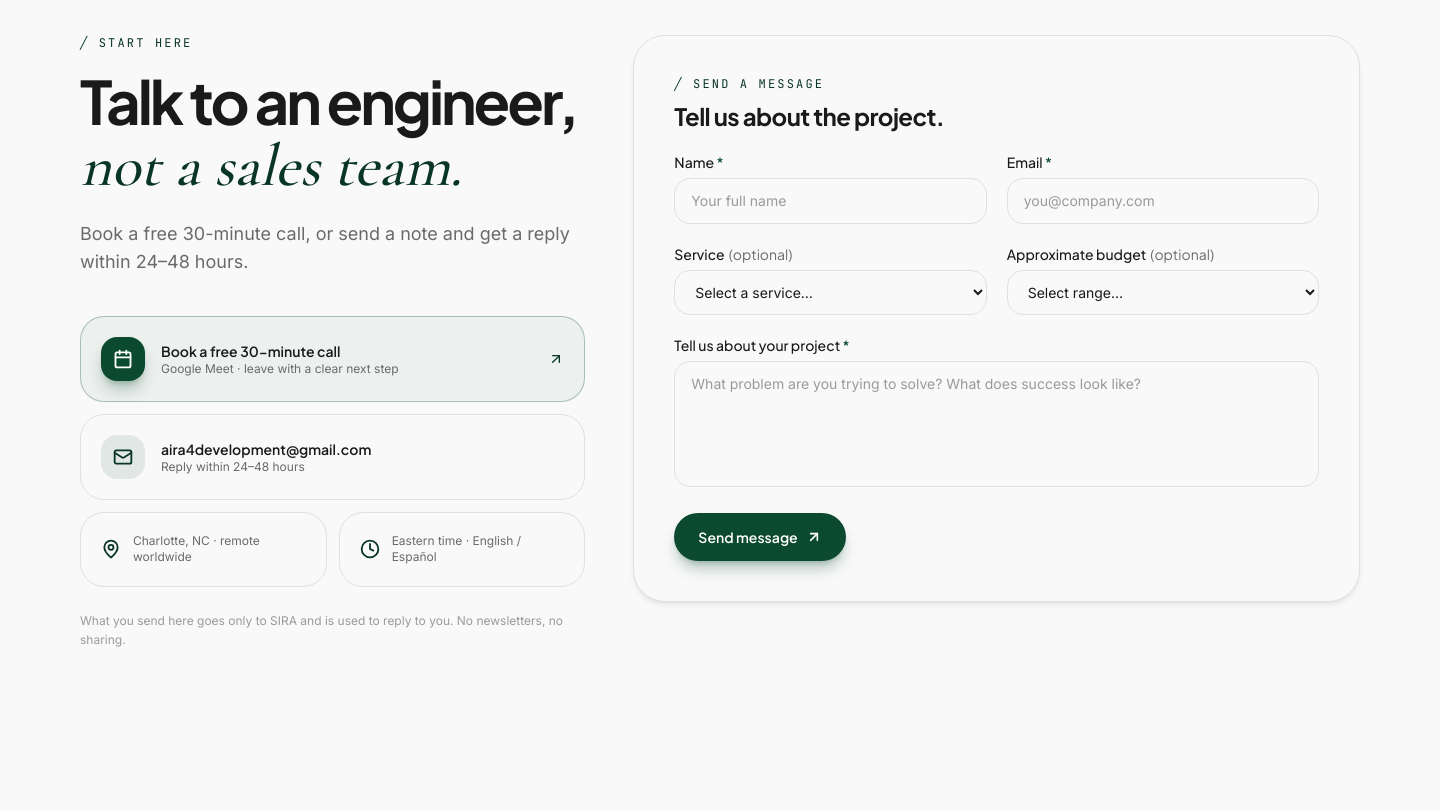
Test: ConversionSection › LEAD-02: shows inline error messages when required fields are empty on submit
The image size is (1440, 810).
(page scrolled)
Click the button "Send message" at point(760, 537), box [674,513,846,561]
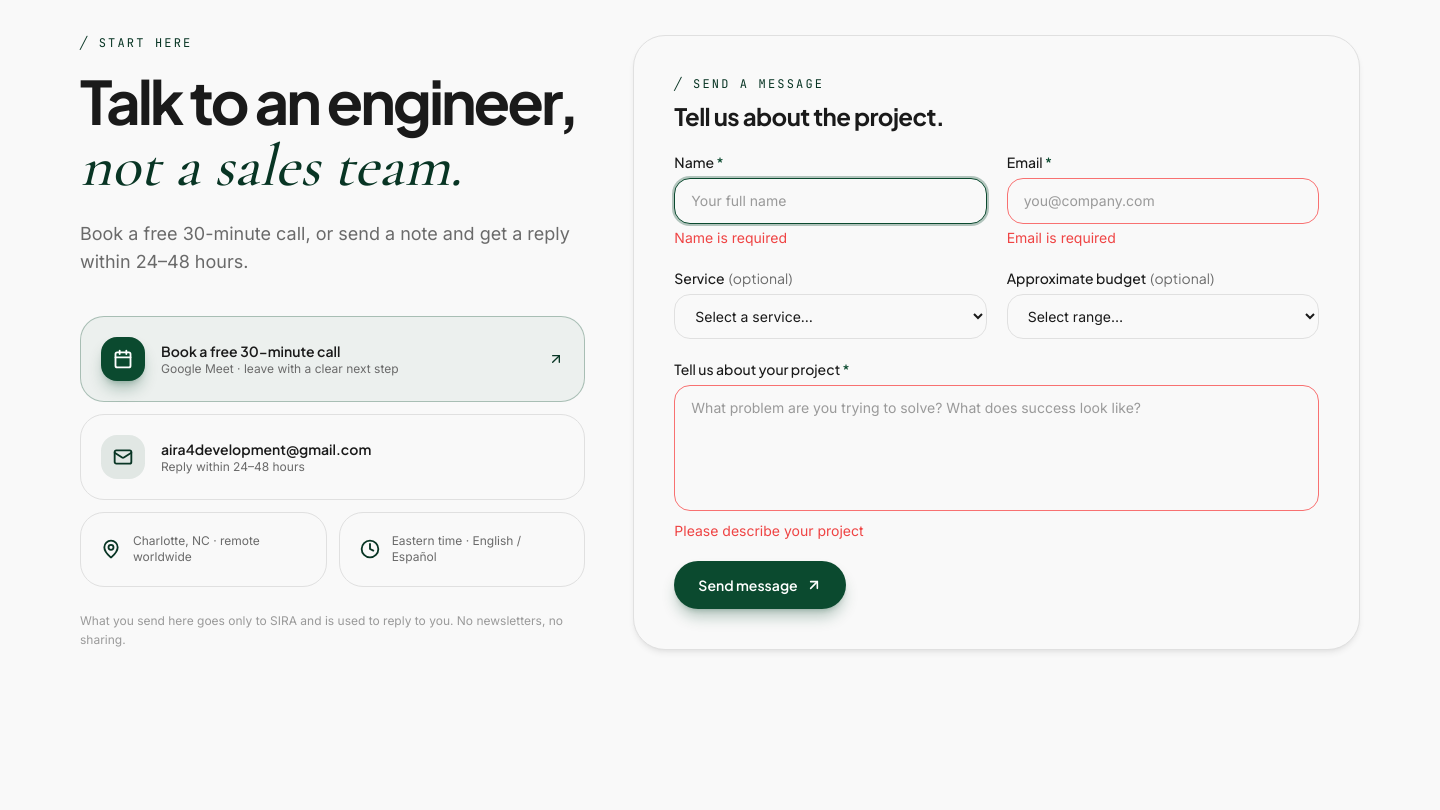
Check: the text "Name is required" is shown, box [674,229,787,246]
Check: the text "Email is required" is shown, box [1007,229,1116,246]
Check: the text "Please describe your project" is shown, box [674,522,864,539]
